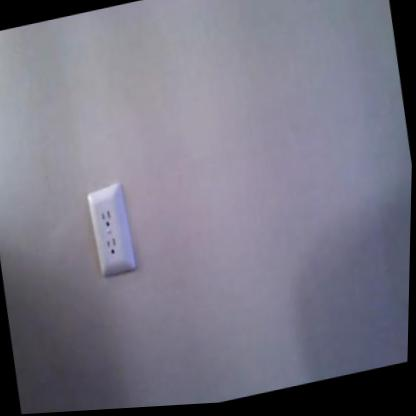OUTLET: (82, 180, 141, 281)
